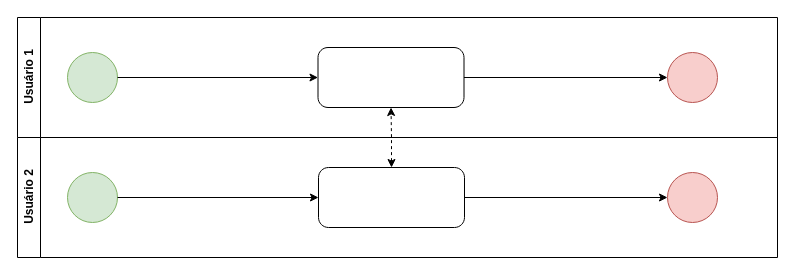
Some shapes in this 795 by 275 pixel diagram are drawn without their labels. The centre of each missing label's shape, as x and y in pixels:
Mandar m ensagem: [391,197]
Mandar mensagem: [390,77]
